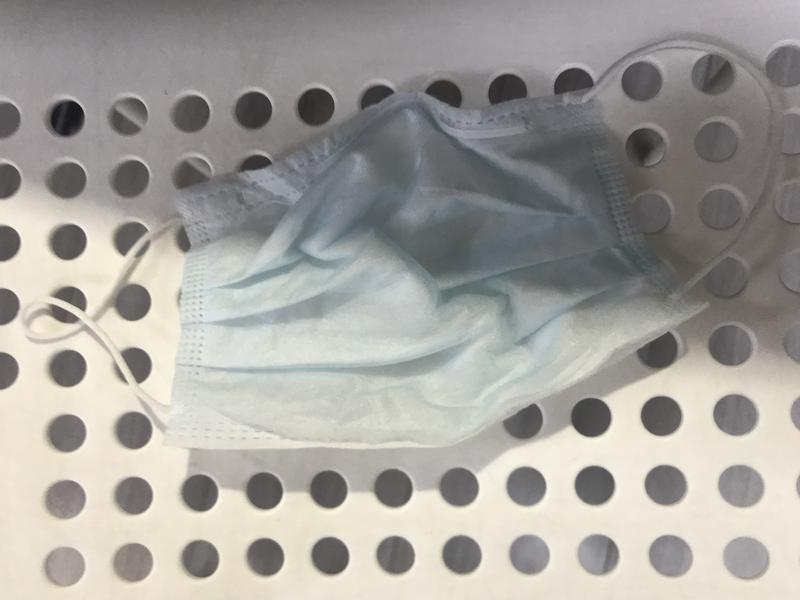medical_mask: (25, 40, 782, 451)
